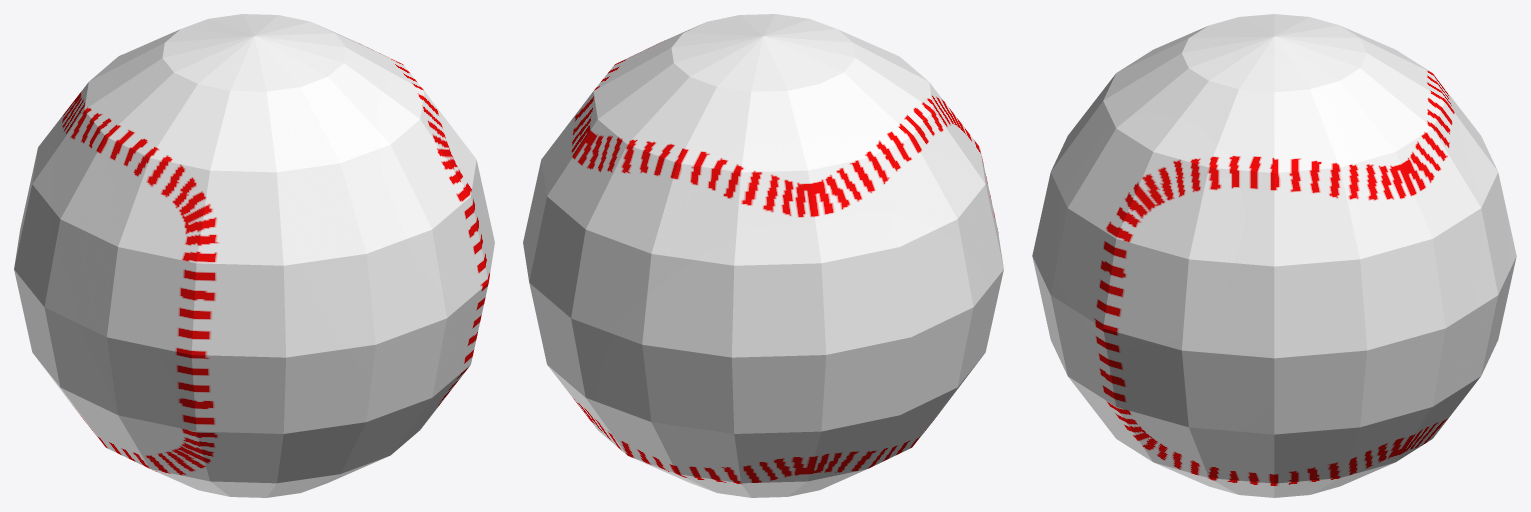
The model's file is baseball-ball.glb.
The picture shows the model from 3 angles, left to right: view 1: azimuth 30°, elevation 25°; view 2: azimuth 150°, elevation 25°; view 3: azimuth 270°, elevation 25°; orthographic projection.
Parts seen in each view (by area): view 1: baseball; view 2: baseball; view 3: baseball.
Boxes of the visible parts, box(x1,y1,x2,y2) form: baseball: box(14, 14, 494, 497); baseball: box(523, 14, 1003, 497); baseball: box(1032, 14, 1516, 497).
Bounding box in the file's own units: 0.6 × 0.6 × 0.6.
Materials: 1 (1 with a texture image).
